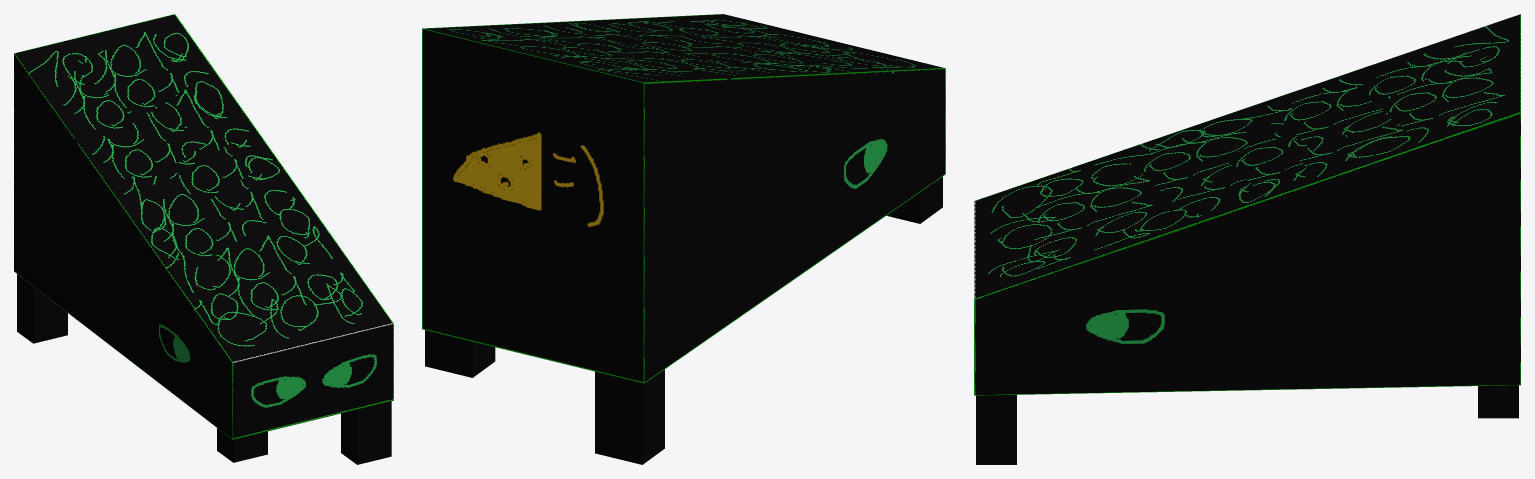
File: Normal2.fbx
The picture shows the model from 3 angles, left to right: view 1: azimuth 30°, elevation 25°; view 2: azimuth 150°, elevation 25°; view 3: azimuth 270°, elevation 25°; orthographic projection. The views are drawn at different scales.
Parts seen in each view (by area): view 1: Box001; view 2: Box001; view 3: Box001.
Boxes of the visible parts, x1=… form: Box001: x1=14, y1=14, x2=393, y2=464; Box001: x1=422, y1=14, x2=945, y2=464; Box001: x1=974, y1=14, x2=1520, y2=464.
Bounding box in the file's own units: 17.93 × 30.06 × 42.15.
